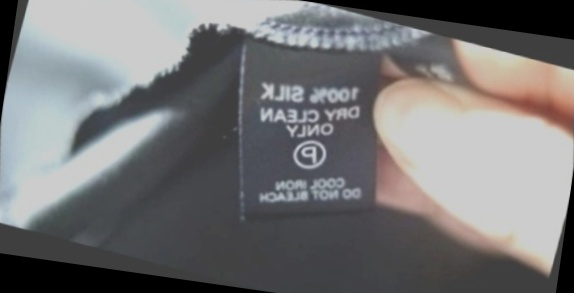dry_clean_any_solvent_except_trichloroethylene: (280, 126, 338, 182)
